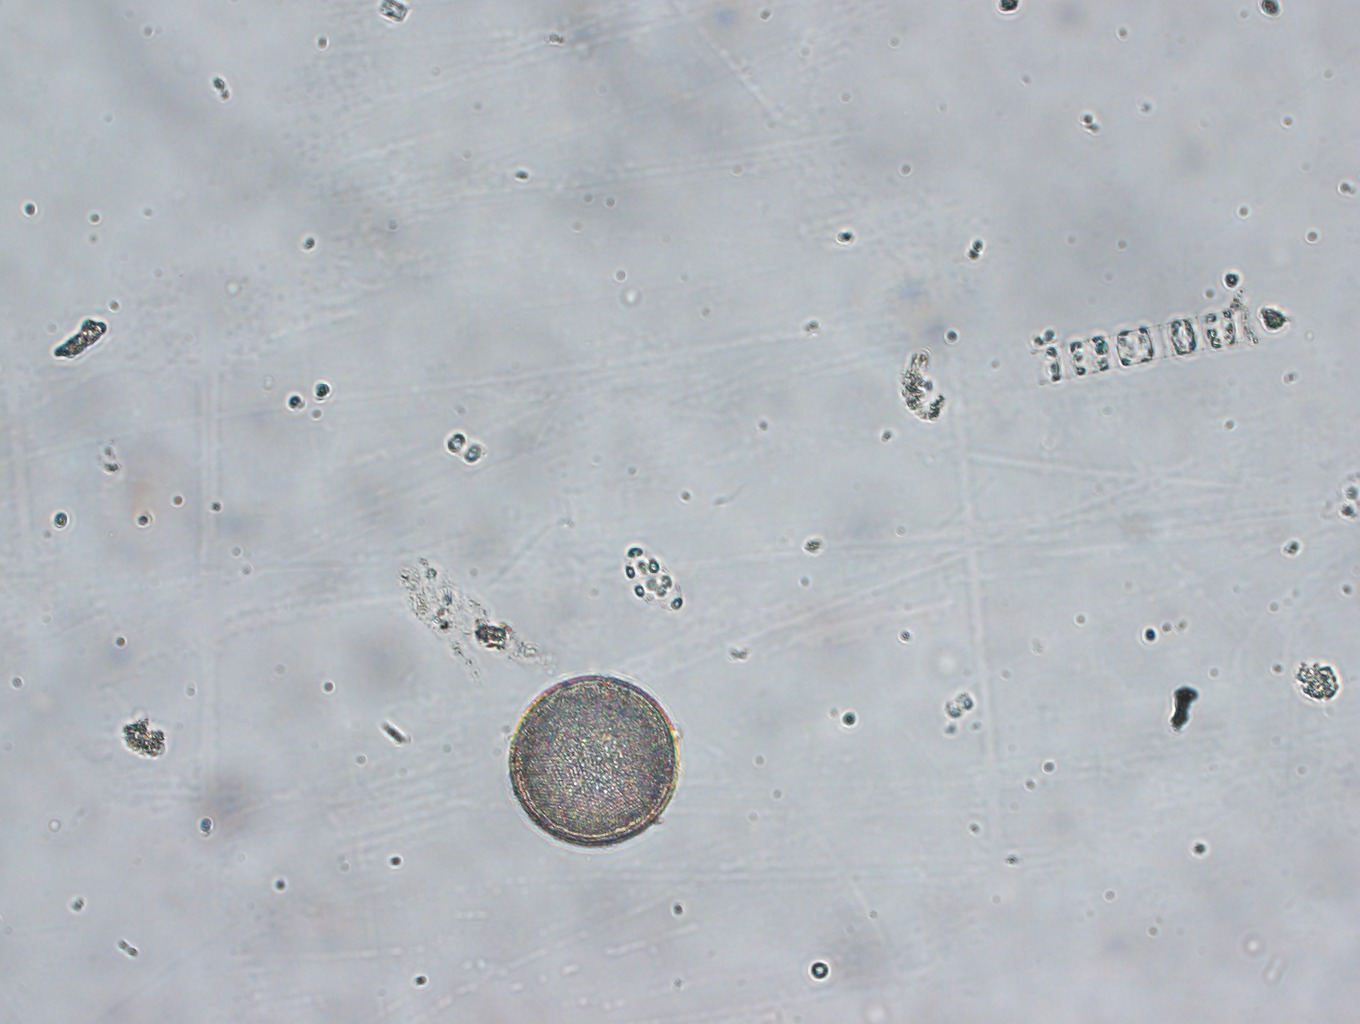coscinodiscus: (498, 669, 682, 851)
skeletonema: (1020, 296, 1252, 390)
